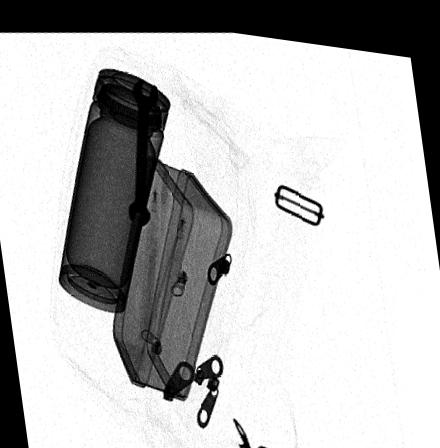Wrench: (126, 75, 159, 224)
